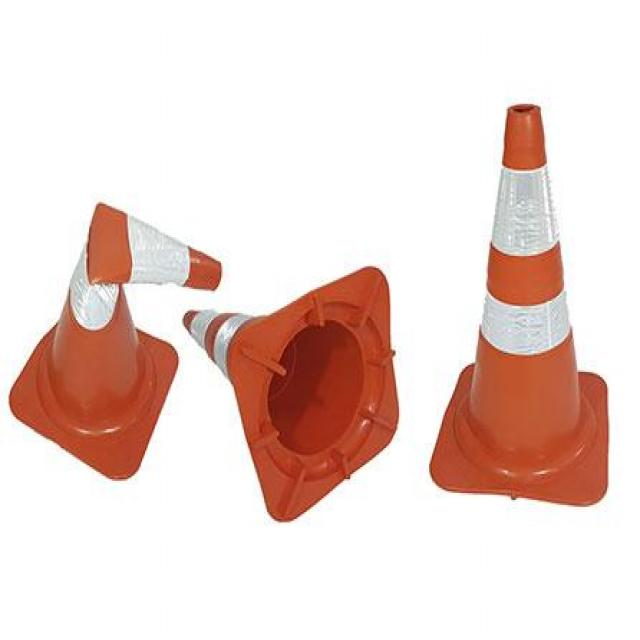cone: (432, 104, 607, 513), (181, 272, 400, 513)
